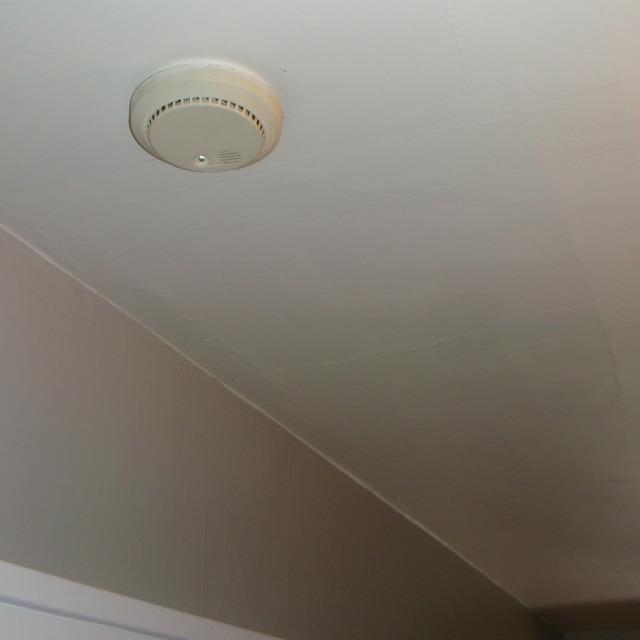Smoke-Detector: (122, 58, 286, 178)
